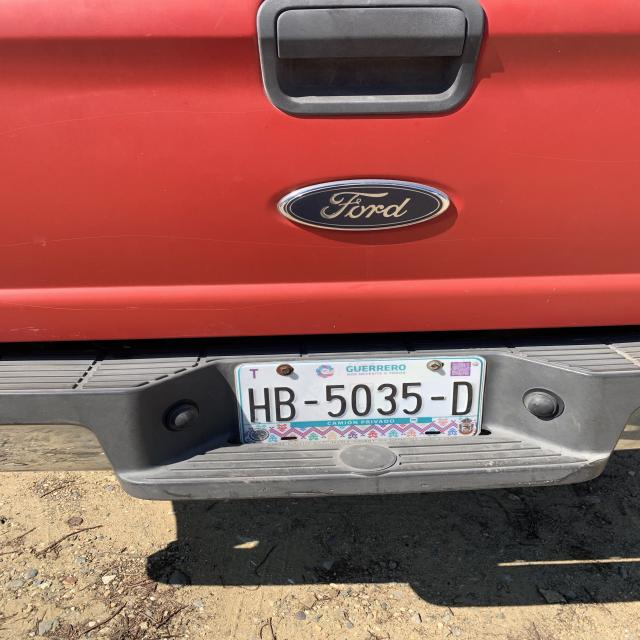placa: (242, 380, 480, 424)
